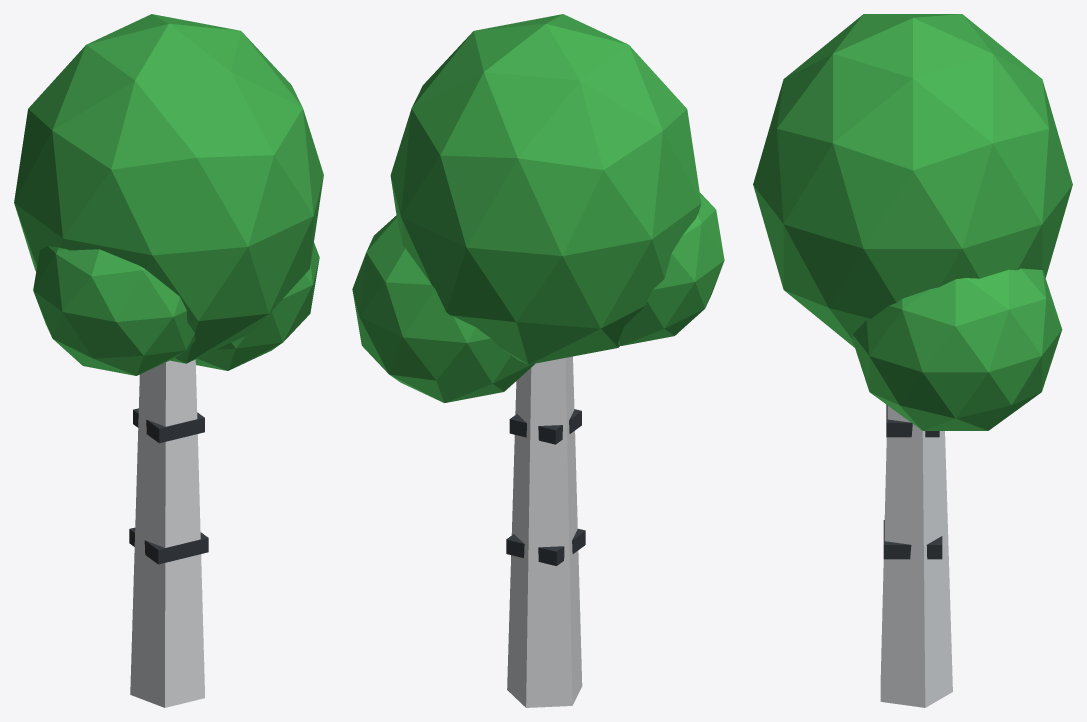
File: tree_birch.glb
The picture shows the model from 3 angles, left to right: view 1: azimuth 30°, elevation 25°; view 2: azimuth 150°, elevation 25°; view 3: azimuth 270°, elevation 25°; orthographic projection.
Visible parts, largest first — view 1: folha_betula, betula, betula_faixa; view 2: folha_betula, betula, betula_faixa; view 3: folha_betula, betula, betula_faixa.
Boxes of the visible parts, x1,y1,x2,y2 form: folha_betula: (14,14,323,375); betula: (130,359,204,707); betula_faixa: (129,408,208,564); folha_betula: (352,14,724,402); betula: (507,356,582,707); betula_faixa: (506,409,585,565); folha_betula: (753,14,1072,430); betula: (880,406,952,707); betula_faixa: (883,404,942,559).
Size of the model in its own units: 0.6514 by 1.39 by 0.6.
